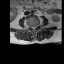CCS_normal: (33, 25, 34, 31)
LFS_stenosis: (36, 24, 37, 28)
LLS_normal: (34, 25, 36, 30)
RFS_normal: (30, 25, 32, 29)
RLS_normal: (32, 25, 33, 30)
